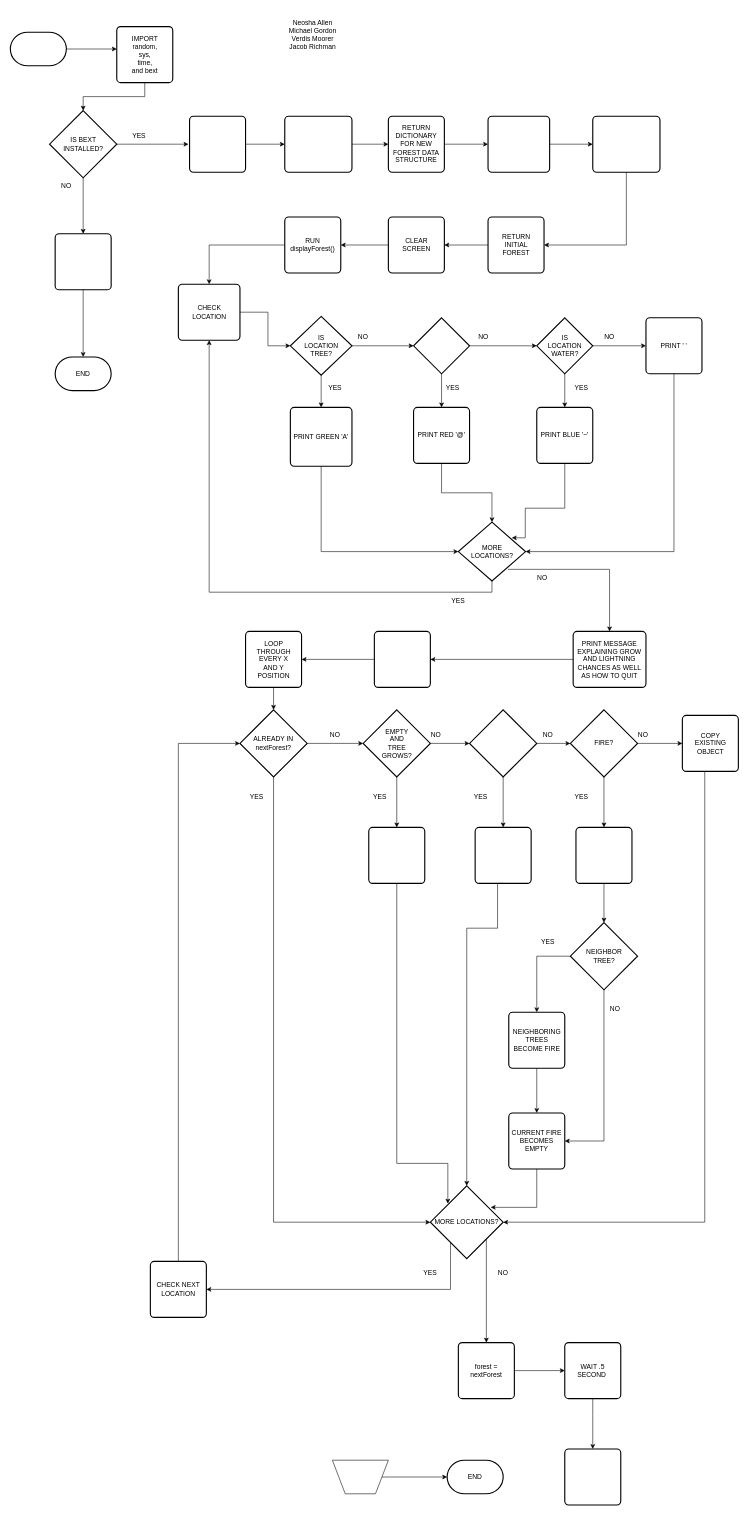
The diagram is 748 pixels wide and 1515 high, and some of its shapes have lost their labels. The shapes that lost their labels are listed below. From the top down, each one's box as (x1, y1, x2, y2) in pixels, then its label:
(10, 31, 67, 66): START
(189, 115, 246, 172): SET UP ALL CONSTRAINTS
(284, 115, 352, 172): CALL createNewForest()
(487, 115, 550, 172): CREATE LAKE IN CENTER OF THE FOREST
(592, 115, 660, 172): USE RANDOM * 100 COMPARED TO INITIAL TREE DENSITY TO ESTABLISH TREE OR EMPTY
(54, 233, 111, 290): DISPLAY ERROR MESSAGE
(413, 317, 470, 374): IS LOCATION FIRE?
(374, 631, 431, 688): CREATE nextForest DICTIONARY
(469, 709, 537, 777): TREE AND LIGHTNING
(368, 827, 425, 884): SET TO TREE
(474, 827, 531, 884): SET TO FIRE
(575, 827, 632, 884): CHECK NEIGHBORS
(332, 1460, 388, 1494): USER PRESSES CTRL+C
(564, 1448, 621, 1505): REPEAT MAIN LOOP
